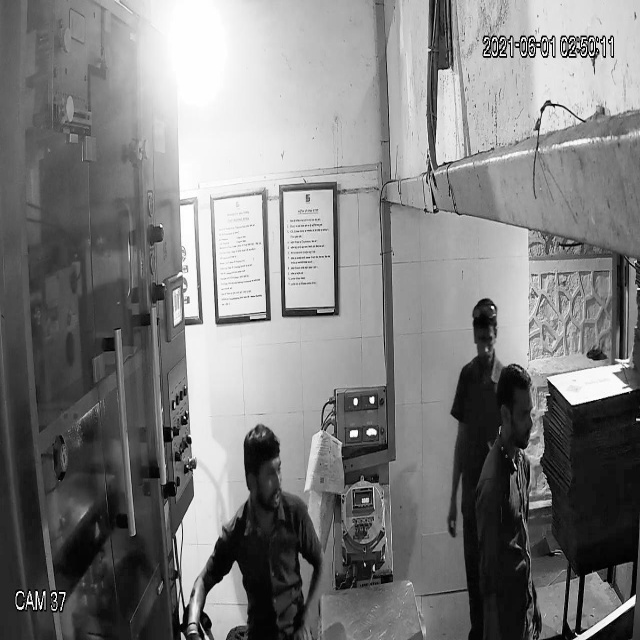Sin_gafas: (490, 397, 542, 431), (240, 459, 289, 491), (470, 329, 500, 348)
